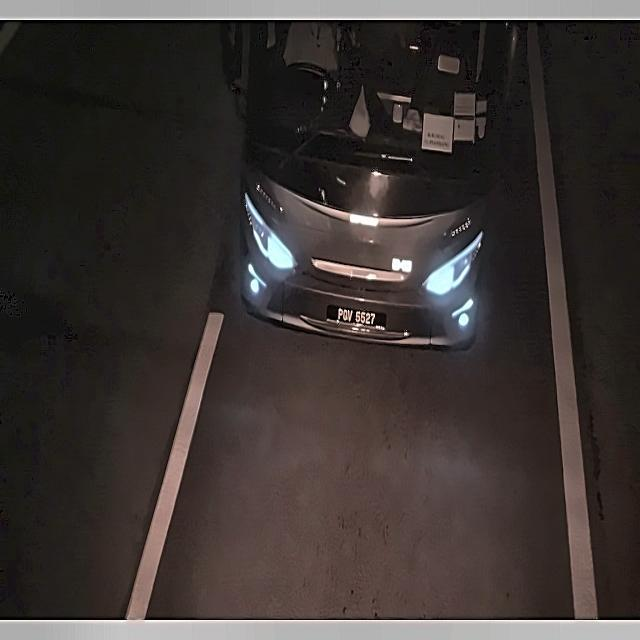car: (323, 297, 389, 337)
